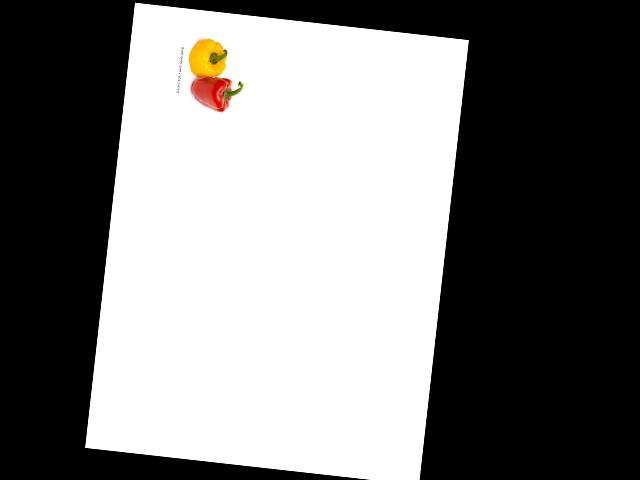bell_pepper: (183, 34, 232, 81)
